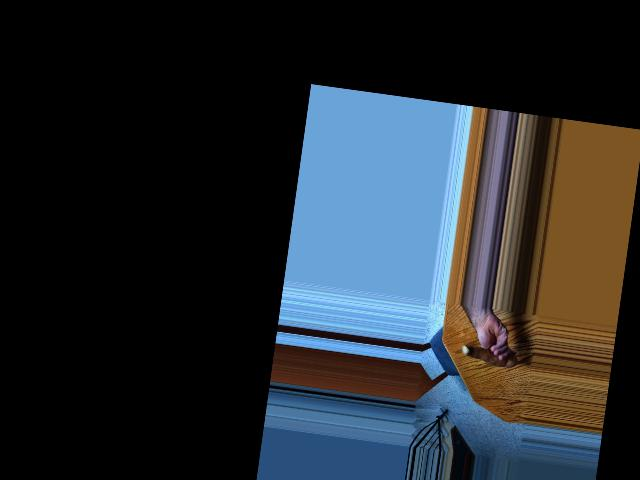sweet_potato: (461, 339, 519, 371)
